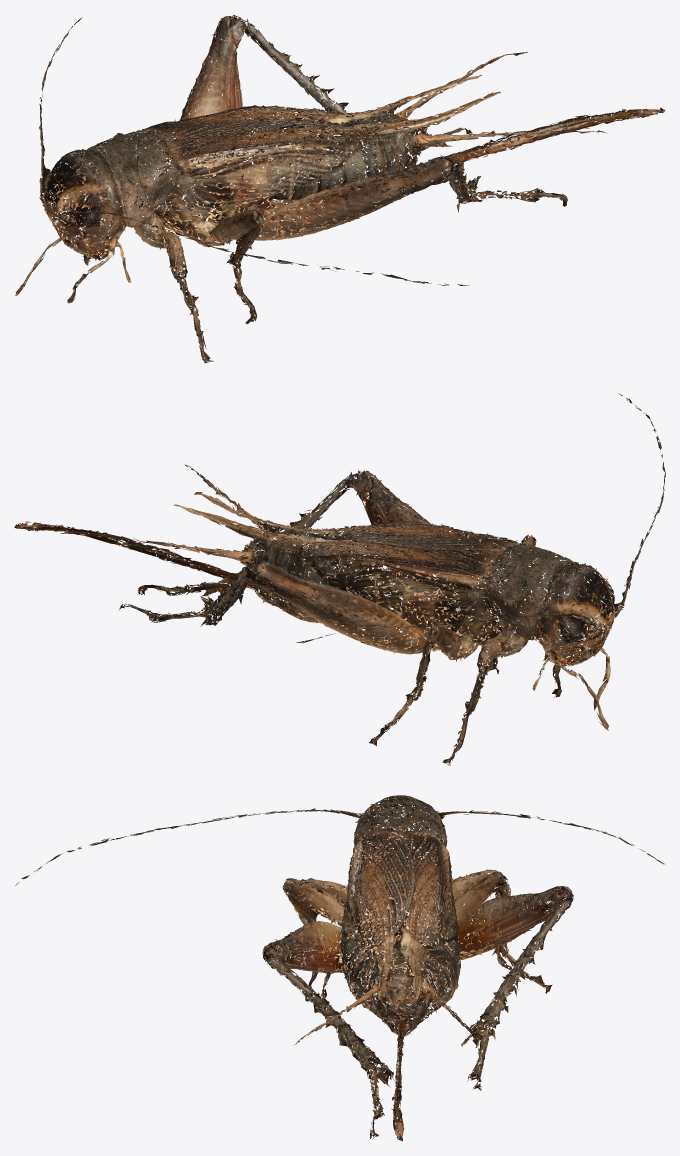
Rendered from Cricket_Static_Light.fbx.
The picture shows the model from 3 angles, top to bottom: view 1: azimuth 30°, elevation 25°; view 2: azimuth 150°, elevation 25°; view 3: azimuth 270°, elevation 25°; orthographic projection. The views are drawn at different scales.
Visible parts, largest first — view 1: Cricket_Static_Light; view 2: Cricket_Static_Light; view 3: Cricket_Static_Light.
Part boxes in pixels (x1,y1,x2,y2): Cricket_Static_Light: [15, 14, 665, 363]; Cricket_Static_Light: [14, 393, 665, 765]; Cricket_Static_Light: [15, 795, 664, 1141].
Size of the model in its own units: 0.07 by 0.0218 by 0.0691.
Materials: 1 (1 with a texture image).
